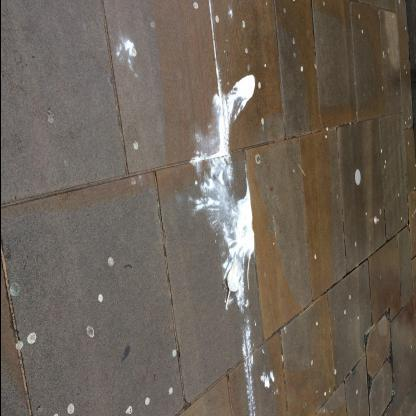plastik: (227, 260, 239, 306), (373, 217, 379, 225)
